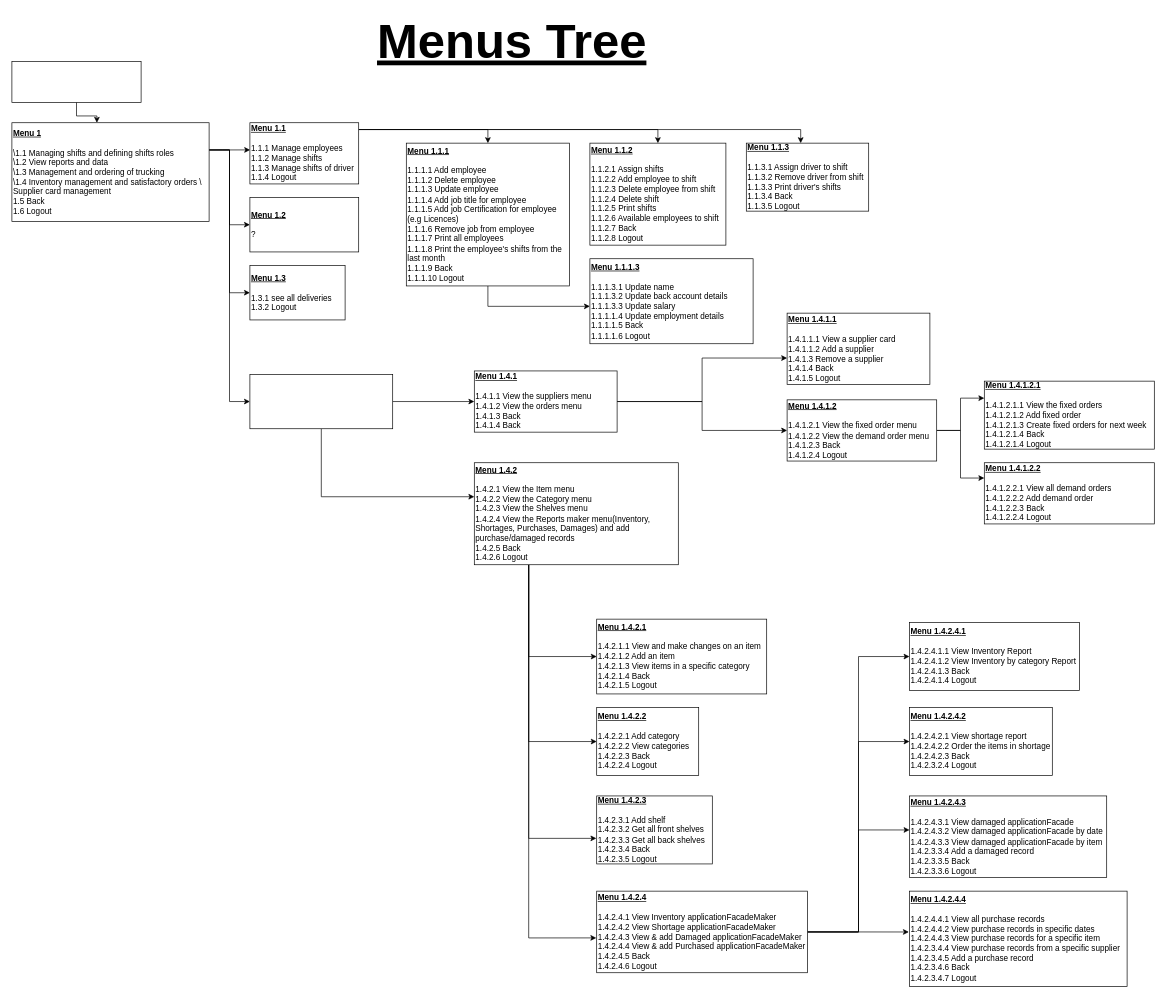
Some shapes in this 1166 by 998 pixel diagram are drawn without their labels. Each missing label, with the centre of its shape:
"Menu 0 1.Enter your ID for sign in 2.Enter load for loading fake data" goes at [76,81].
"Menu 1.4 1.4.1 View the supplier model menu 1.4.2 View the inventory model menu" goes at [321,401].
